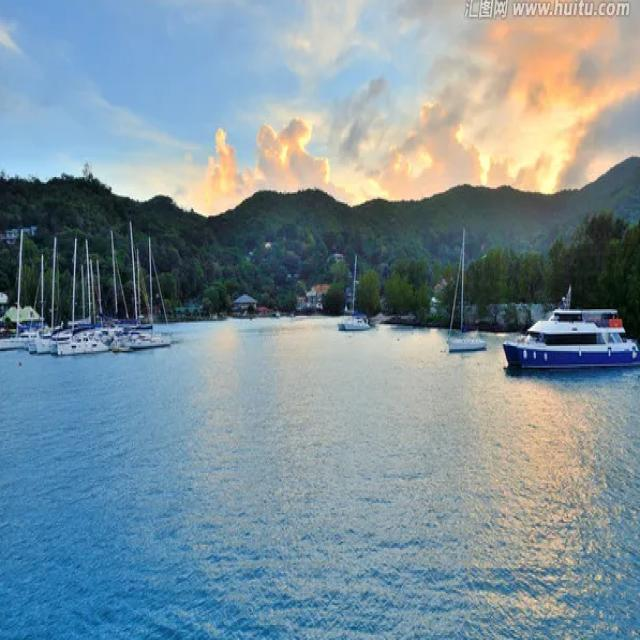houseboat: (498, 291, 640, 376)
sailboat: (114, 220, 168, 353), (59, 232, 111, 359), (444, 223, 489, 354), (12, 238, 56, 358), (333, 250, 372, 332)
